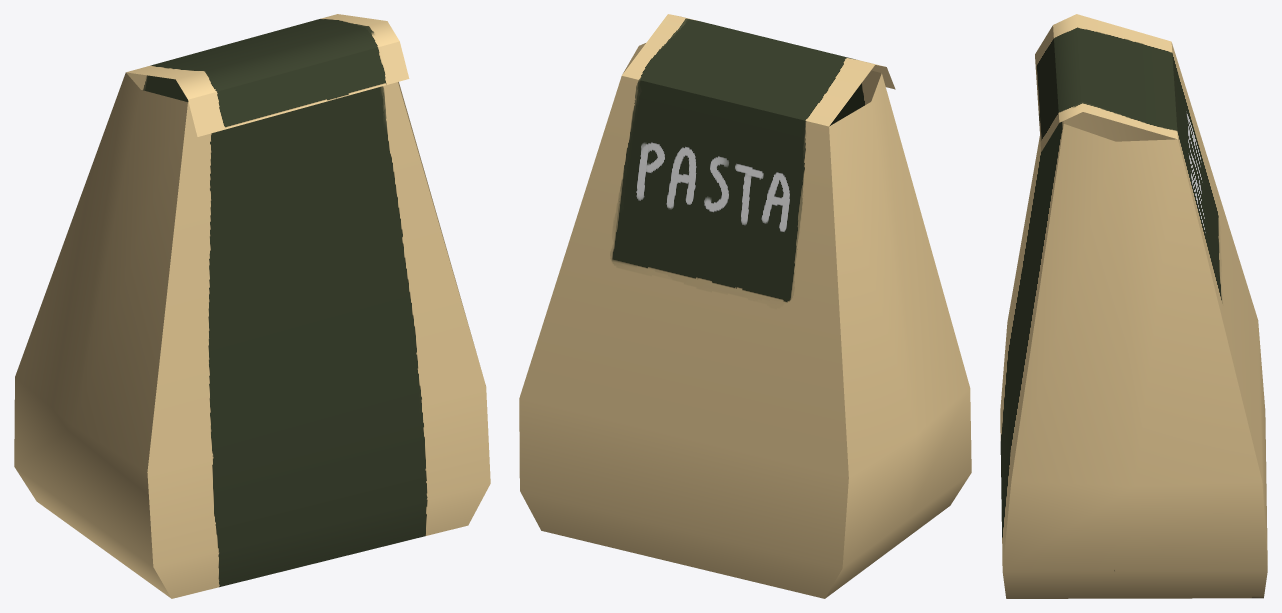
Rendered from pasta.fbx.
The picture shows the model from 3 angles, left to right: view 1: azimuth 30°, elevation 25°; view 2: azimuth 150°, elevation 25°; view 3: azimuth 270°, elevation 25°; orthographic projection. The views are drawn at different scales.
Visible parts, largest first — view 1: pasta; view 2: pasta; view 3: pasta.
Part boxes in pixels (x1=…): pasta: x1=14, y1=14, x2=490, y2=598; pasta: x1=519, y1=14, x2=971, y2=598; pasta: x1=1000, y1=14, x2=1267, y2=598.
Bounding box in the file's own units: 37.59 × 48.49 × 25.14.
Materials: 1 (1 with a texture image).
